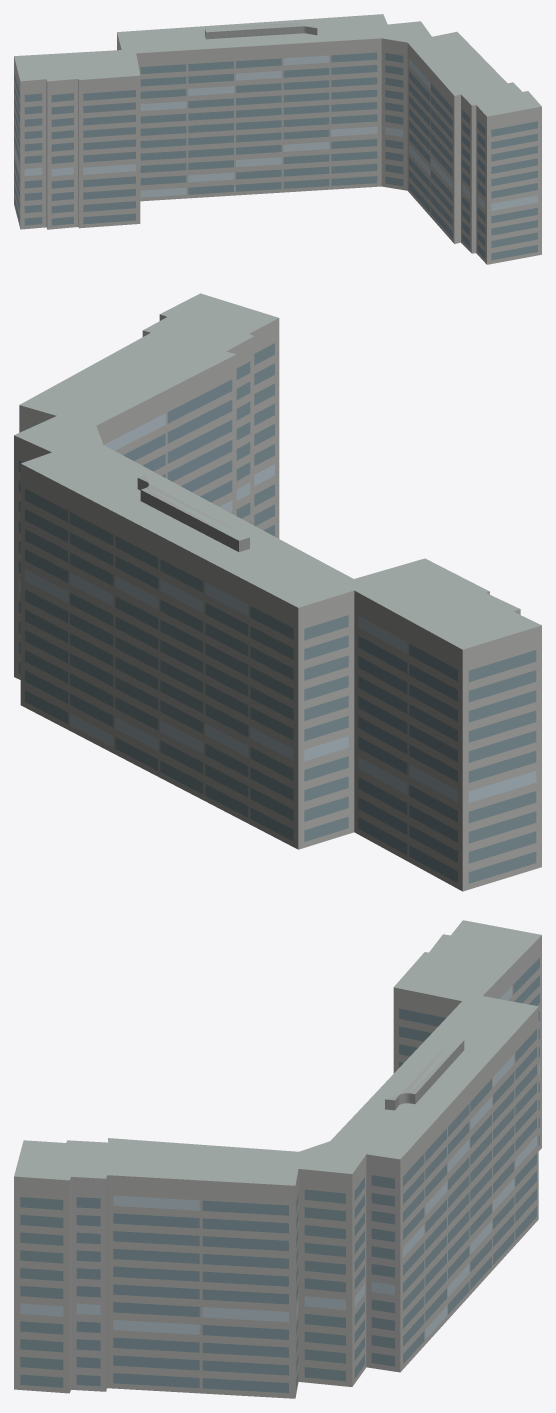
File: apt-a12010101.glb
3 renders of one model, top to bottom at view 1: azimuth 30°, elevation 25°; view 2: azimuth 150°, elevation 25°; view 3: azimuth 270°, elevation 25°, orthographic. The views are drawn at different scales.
Visible parts, largest first — view 1: apt-a12010101; view 2: apt-a12010101; view 3: apt-a12010101.
Part boxes in pixels (<box>): apt-a12010101: <box>14,14,541,264</box>; apt-a12010101: <box>14,293,541,891</box>; apt-a12010101: <box>14,920,541,1398</box>.
Bounding box in the file's own units: 81.71 × 32 × 68.64.
